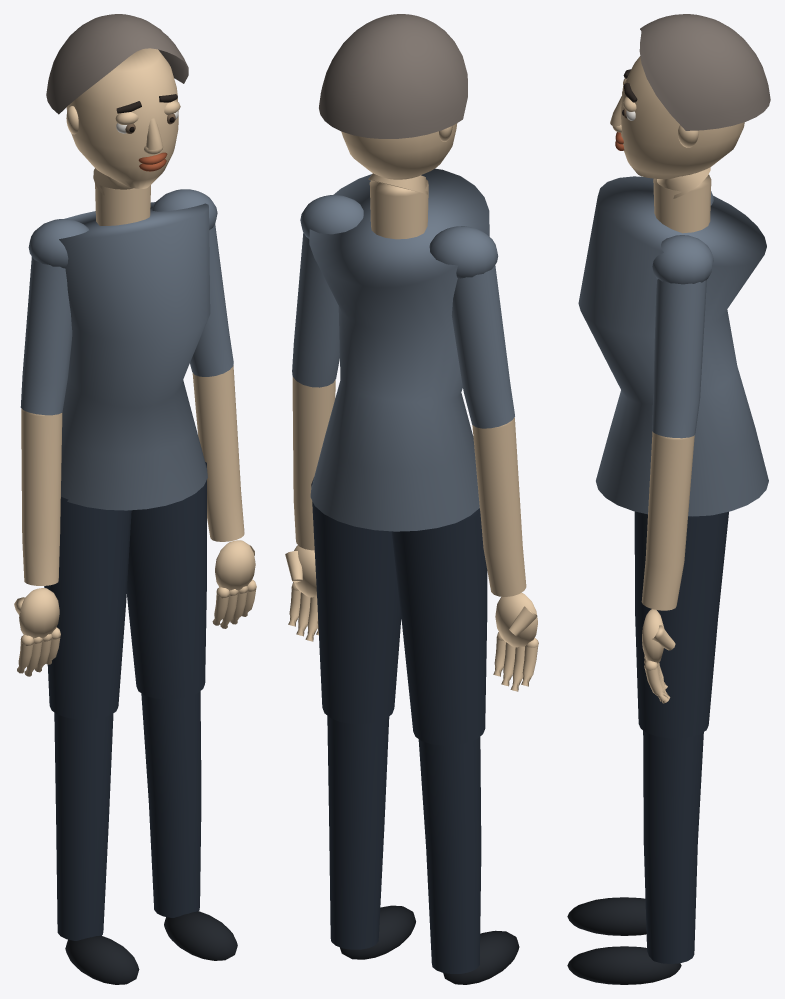
3 renders of one model, left to right at view 1: azimuth 30°, elevation 25°; view 2: azimuth 150°, elevation 25°; view 3: azimuth 270°, elevation 25°, orthographic. The views are drawn at different scales.
Parts seen in each view (by area): view 1: maher_fig, maher_head; view 2: maher_fig, maher_head; view 3: maher_fig, maher_head.
Part boxes in pixels (x1,y1,x2,y2): maher_fig: [14, 184, 256, 984]; maher_head: [46, 14, 188, 195]; maher_fig: [285, 168, 538, 984]; maher_head: [319, 14, 467, 194]; maher_fig: [567, 174, 768, 984]; maher_head: [610, 14, 770, 198].
Size of the model in its own units: 0.4904 by 1.8 by 0.3541.
